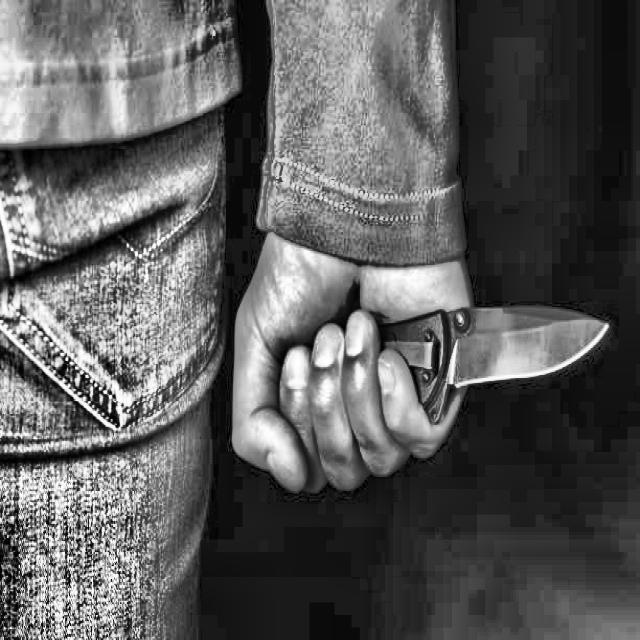pisau: (230, 284, 618, 523)
